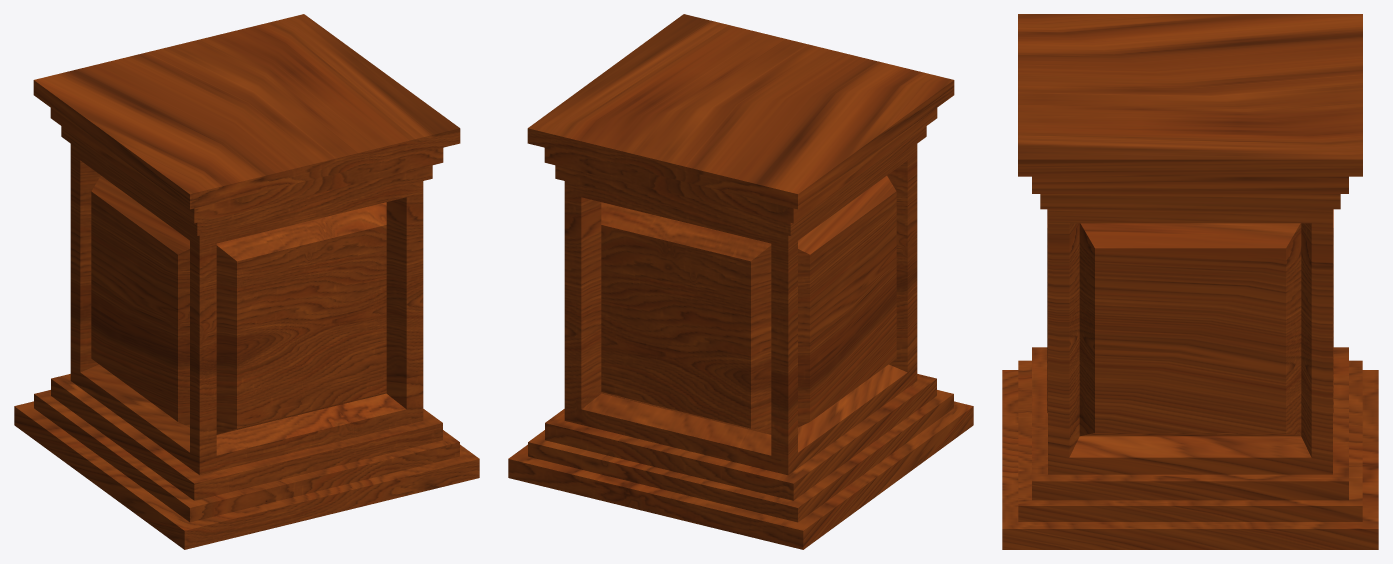
Rendered from Renai_SmallDisplayBase.fbx.
3 views of the same model, side by side, from view 1: azimuth 30°, elevation 25°; view 2: azimuth 150°, elevation 25°; view 3: azimuth 270°, elevation 25° (orthographic). The views are drawn at different scales.
Visible parts, largest first — view 1: smallDisplayBase; view 2: smallDisplayBase; view 3: smallDisplayBase.
Boxes of the visible parts, box(x1,y1,x2,y2) form: smallDisplayBase: box(14, 14, 479, 549); smallDisplayBase: box(508, 14, 973, 549); smallDisplayBase: box(1002, 14, 1378, 549).
Size of the model in its own units: 2.01 by 2.26 by 2.01.
Materials: 1 (1 with a texture image).
